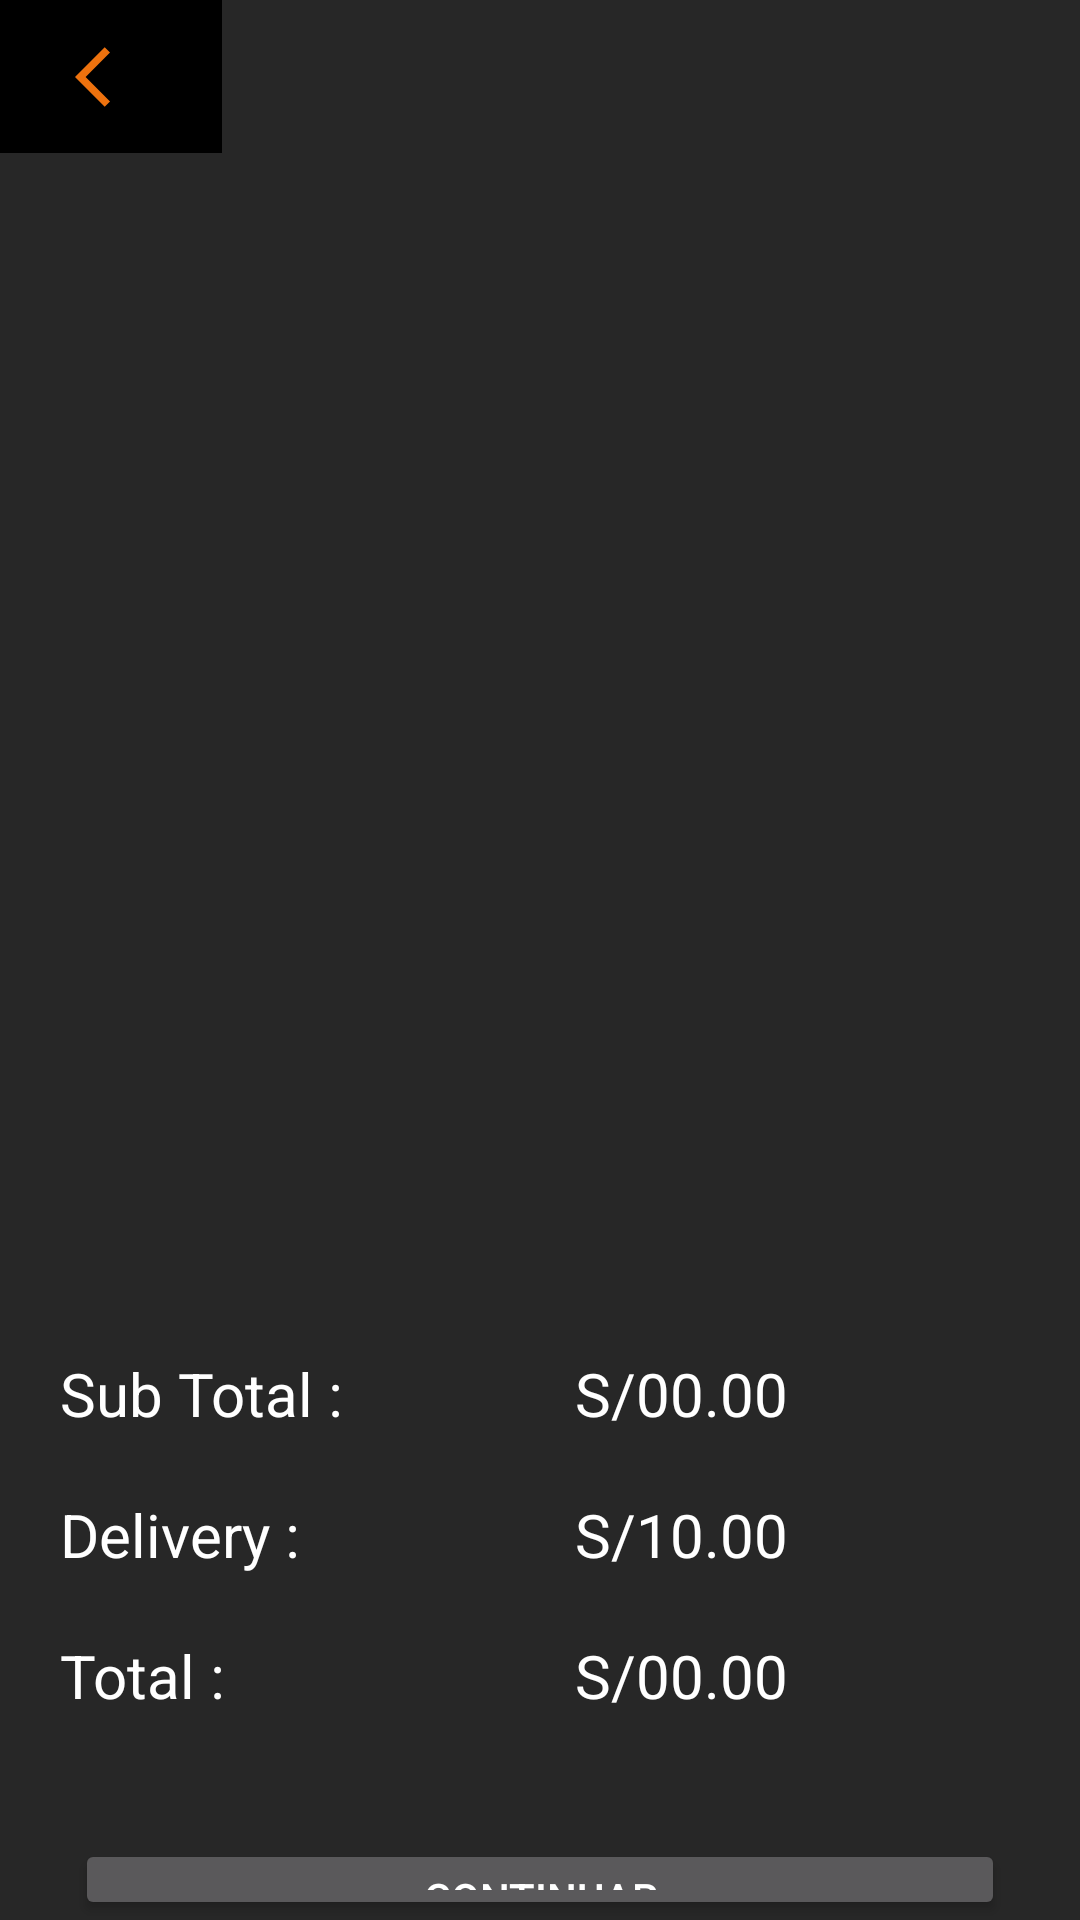

Screen size 1080×1920. Icon name, then its center in pixels as (x,y):
arrow back: (111,76)
